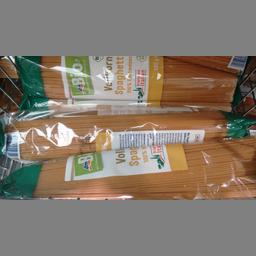pasta: (0, 138, 253, 196), (1, 110, 255, 158), (12, 54, 238, 102)
